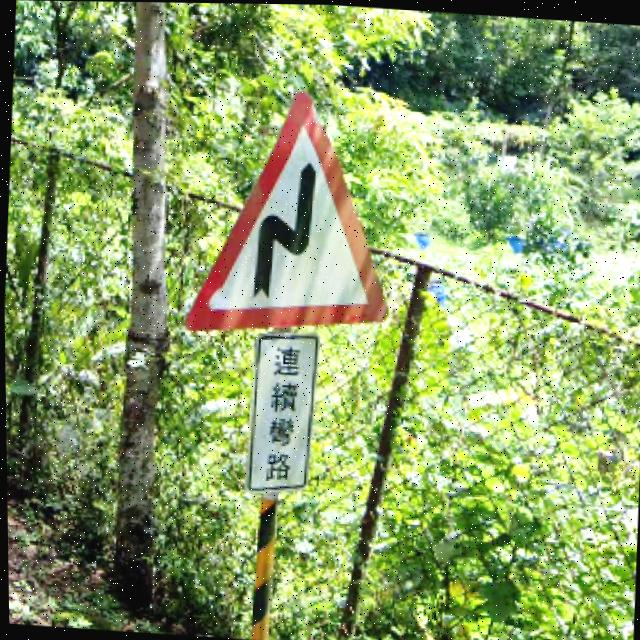doublebendright: (187, 90, 388, 332)
